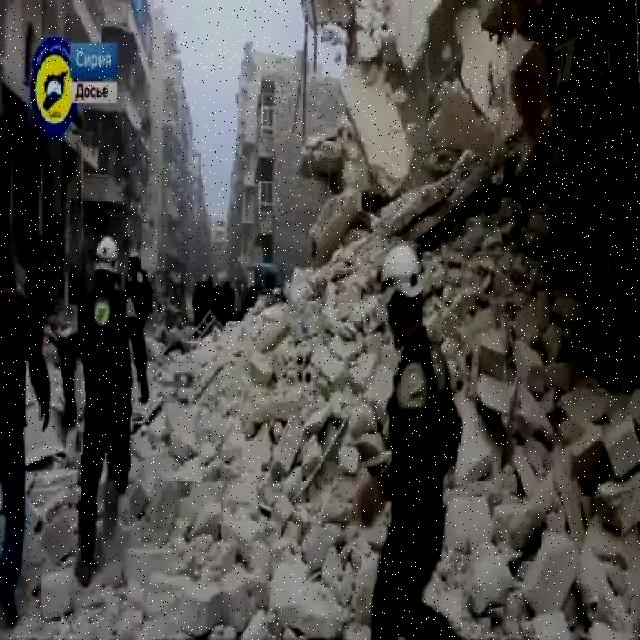Helmet: (373, 236, 427, 310), (92, 234, 120, 274)
